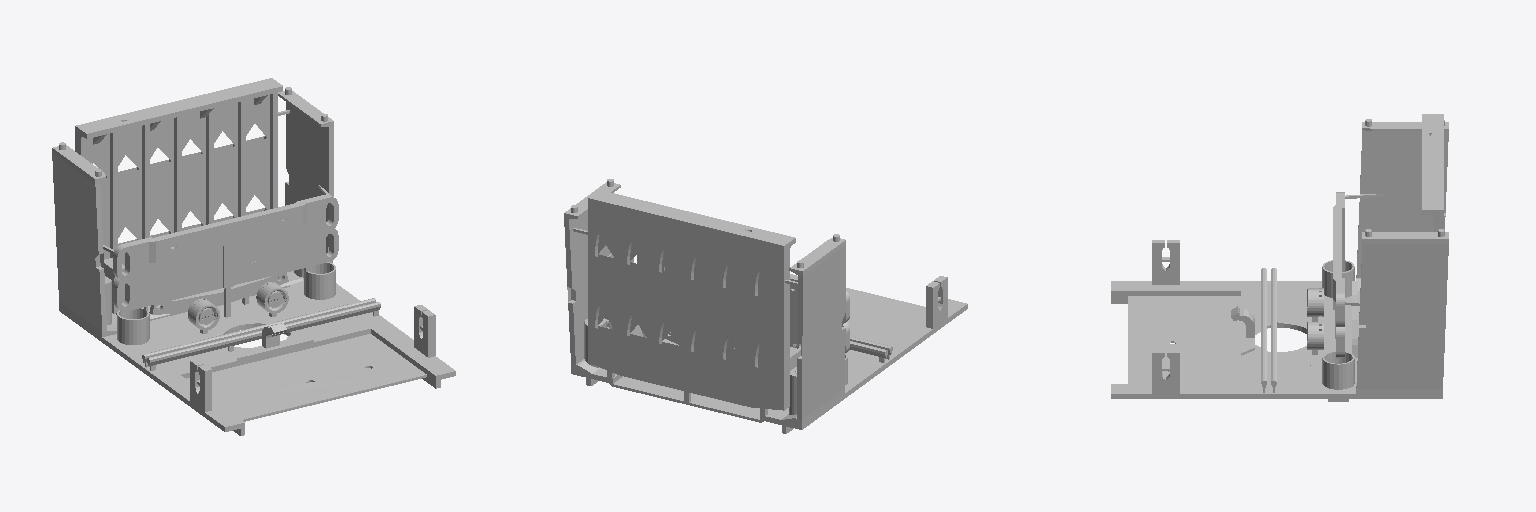
Rendered from Toveri3D_printable_with_protplate.obj.
3 renders of one model, left to right at view 1: azimuth 30°, elevation 25°; view 2: azimuth 150°, elevation 25°; view 3: azimuth 270°, elevation 25°, orthographic.
Parts seen in each view (by area): view 1: Cube.066_Cube.030, Cube.007_Cube.004, Cube.053_Cube, Cube.006_Cube.003, Cube.062_Cube.011, Cube.021_Cube.014, protplate_Plane.003, Cube.004_Cube.097, Cube.008_Cube.006, Cylinder.015_Cylinder.017, Cube.013_Cube.029, Cylinder.017_Cylinder.024 (+9 smaller); view 2: Cube.007_Cube.004, Cube.062_Cube.011, Cube.053_Cube, Cube.021_Cube.014, protplate_Plane.003, Cube.006_Cube.003, Cube.052_Cube.062, Cube.066_Cube.030, heater_mount_Cube.028; view 3: Cube.021_Cube.014, Cube.053_Cube, Cube.006_Cube.003, Cube.062_Cube.011, protplate_Plane.003, Cube.066_Cube.030, heater_mount.002_Cube.031, heater_mount_Cube.028, Cylinder.017_Cylinder.024, Cube.004_Cube.097, Cube.013_Cube.029, Cylinder.015_Cylinder.017.
Part boxes in pixels (left/top/right/bottom): Cube.066_Cube.030: left=113, top=194, right=338, bottom=311; Cube.007_Cube.004: left=75, top=95, right=269, bottom=265; Cube.053_Cube: left=59, top=261, right=455, bottom=431; Cube.006_Cube.003: left=187, top=334, right=426, bottom=421; Cube.062_Cube.011: left=52, top=145, right=116, bottom=336; Cube.021_Cube.014: left=278, top=91, right=333, bottom=279; protplate_Plane.003: left=75, top=78, right=282, bottom=138; Cube.004_Cube.097: left=147, top=302, right=380, bottom=365; Cube.008_Cube.006: left=149, top=272, right=288, bottom=314; Cylinder.015_Cylinder.017: left=117, top=308, right=149, bottom=344; Cube.013_Cube.029: left=142, top=298, right=375, bottom=362; Cylinder.017_Cylinder.024: left=304, top=262, right=335, bottom=299; Cube.007_Cube.004: left=588, top=203, right=786, bottom=410; Cube.062_Cube.011: left=781, top=238, right=845, bottom=424; Cube.053_Cube: left=571, top=299, right=967, bottom=429; Cube.021_Cube.014: left=564, top=182, right=620, bottom=373; protplate_Plane.003: left=588, top=190, right=795, bottom=250; Cube.006_Cube.003: left=790, top=274, right=925, bottom=344; Cube.052_Cube.062: left=609, top=376, right=763, bottom=422; Cube.066_Cube.030: left=630, top=253, right=849, bottom=352; heater_mount_Cube.028: left=926, top=276, right=947, bottom=328; Cube.021_Cube.014: left=1356, top=232, right=1448, bottom=393; Cube.053_Cube: left=1111, top=281, right=1442, bottom=398; Cube.006_Cube.003: left=1128, top=296, right=1240, bottom=383; Cube.062_Cube.011: left=1356, top=122, right=1448, bottom=290; protplate_Plane.003: left=1422, top=114, right=1443, bottom=214; Cube.066_Cube.030: left=1333, top=192, right=1344, bottom=357; heater_mount.002_Cube.031: left=1152, top=349, right=1179, bottom=393; heater_mount_Cube.028: left=1152, top=240, right=1179, bottom=284; Cylinder.017_Cylinder.024: left=1322, top=351, right=1354, bottom=389; Cube.004_Cube.097: left=1261, top=268, right=1266, bottom=388; Cube.013_Cube.029: left=1271, top=268, right=1276, bottom=388; Cylinder.015_Cylinder.017: left=1322, top=260, right=1354, bottom=297.
Bounding box in the file's own units: 97.16 × 73.22 × 119.